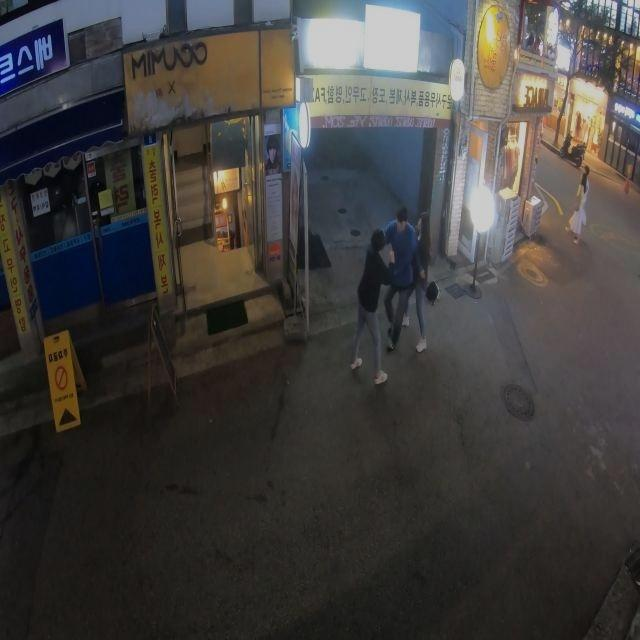fight: (348, 201, 440, 386)
non-fight: (568, 162, 592, 238)
